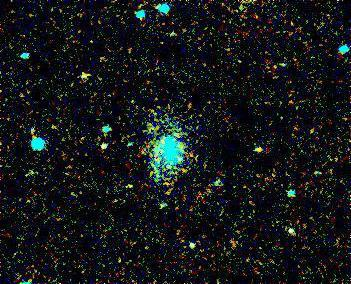star: (112, 172, 142, 202)
